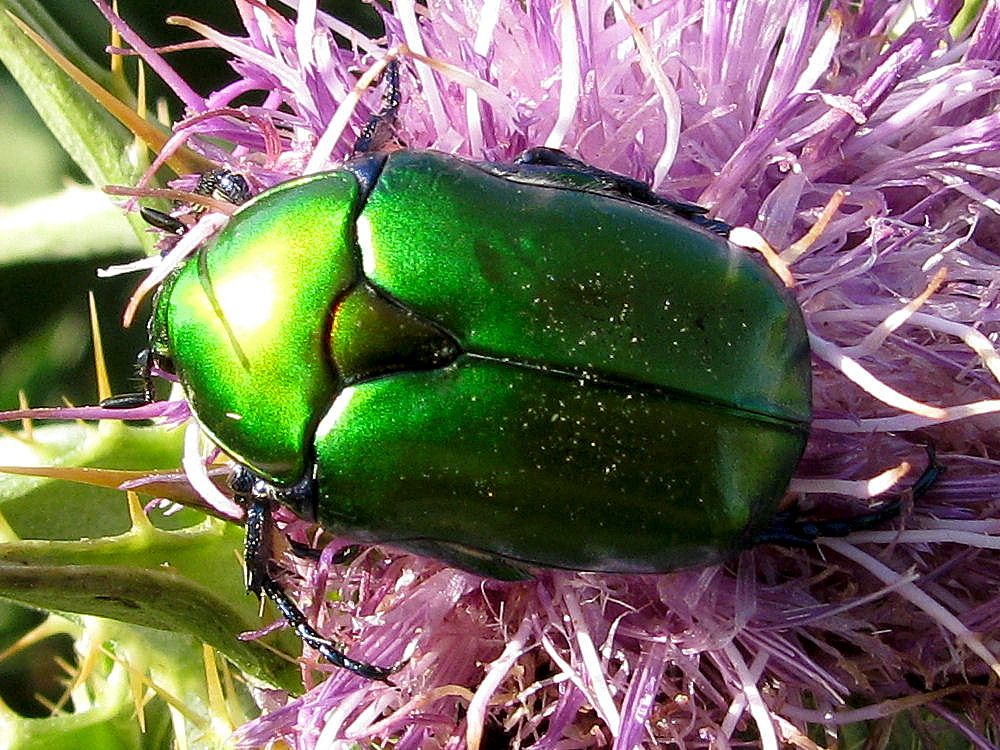Protaetia_cuprea_ignicollis: (142, 139, 838, 697)
